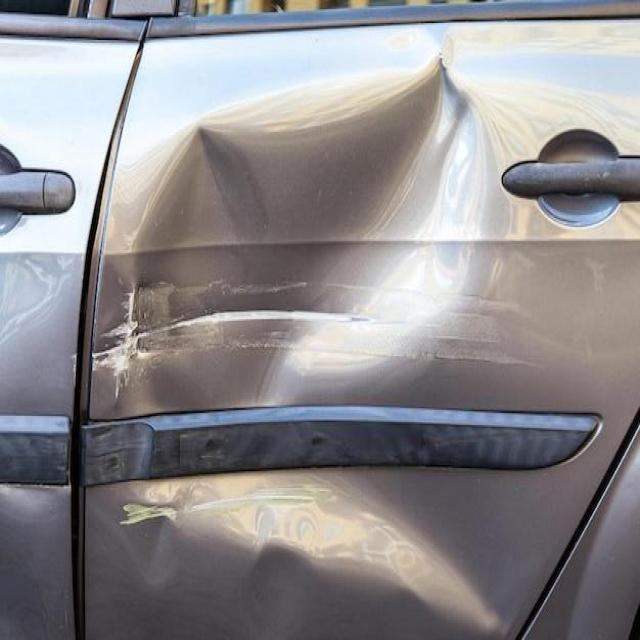dent: (89, 51, 564, 420), (85, 466, 518, 640)
